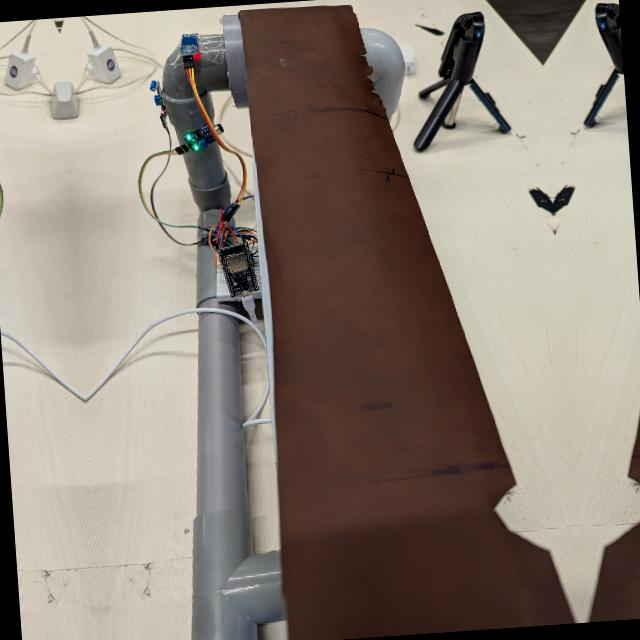belt_tear: (484, 467, 553, 565), (595, 461, 640, 557)
edge_damage: (348, 43, 396, 132)
